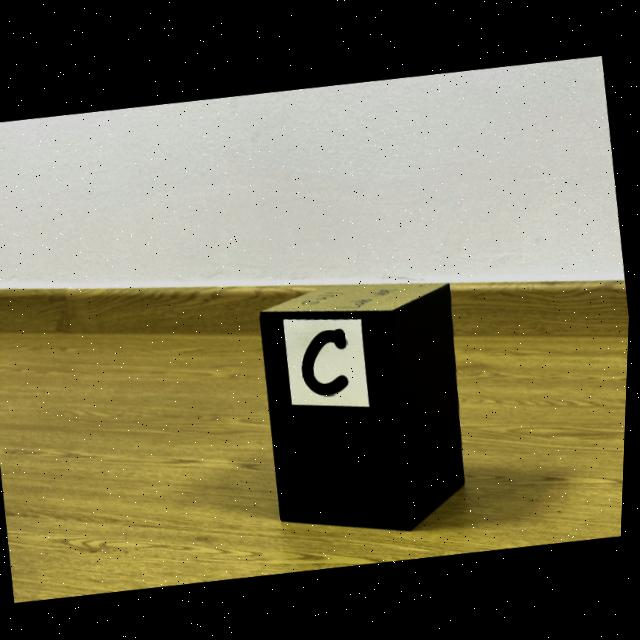C: (306, 327, 352, 394)
